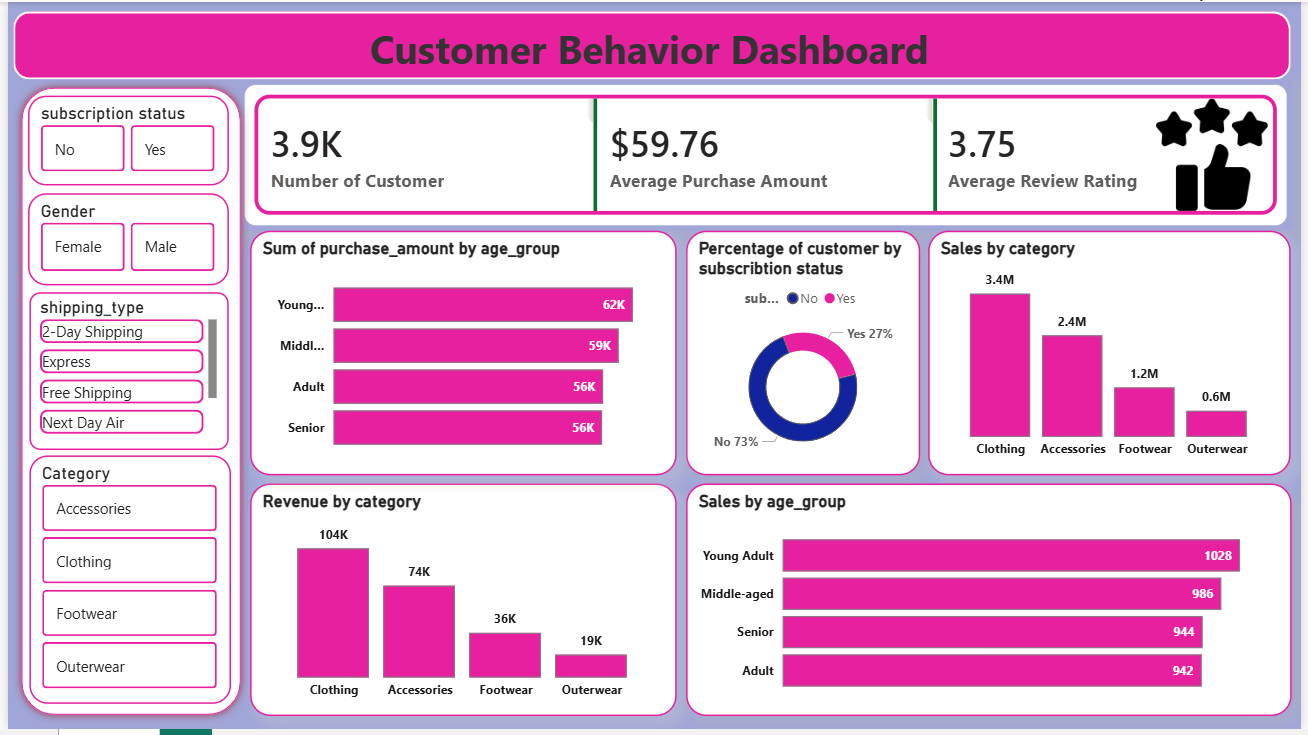

What the dashboard file says about the page in this screenshot:
{"tool":"powerbi","page":{"name":"Page 1","canvas":[1280,720],"ordinal":0},"visuals":[{"type":"cardVisual","fields":{"Data":["public customer.Number of Customer","public customer.Average Purchase Amount","public customer.Average Review Rating"]},"box":[229.1,76.8,1042.3,149.7],"z":0},{"type":"donutChart","title":"Percentage of customer by subscribtion status","fields":{"Category":["public customer.subscription_status"],"Y":["CountNonNull(public customer.customer_id)"]},"box":[671.5,226.5,231.8,242.4],"z":1000},{"type":"clusteredColumnChart","title":"Revenue by category","fields":{"Y":["Sum(public customer.purchase_amount)"],"Category":["public customer.category"]},"box":[239.7,476.8,422.5,230.4],"z":2000},{"type":"clusteredColumnChart","title":"Sales by category","fields":{"Y":["Sum(public customer.customer_id)"],"Category":["public customer.category"]},"box":[911.2,226.5,358.9,242.4],"z":3000},{"type":"shape","box":[5.3,76.8,233.1,637],"z":4000},{"type":"advancedSlicerVisual","title":"subscription status","fields":{"Values":["public customer.subscription_status"]},"box":[19.9,92.7,198.7,88.7],"z":5000},{"type":"advancedSlicerVisual","title":"Gender","fields":{"Values":["public customer.gender"]},"box":[19.9,189.4,198.7,91.4],"z":6000},{"type":"advancedSlicerVisual","title":"Category","fields":{"Values":["public customer.category"]},"box":[21.2,449,200,246.3],"z":7000},{"type":"listSlicer","fields":{"Values":["public customer.shipping_type"]},"box":[21.2,287.4,197.3,156.3],"z":8000},{"type":"clusteredBarChart","fields":{"Y":["Sum(public customer.purchase_amount)"],"Category":["public customer.age_group"]},"box":[239.7,226.5,422.5,242.4],"z":9000},{"type":"clusteredBarChart","title":"Sales by age_group","fields":{"Y":["CountNonNull(public customer.customer_id)"],"Category":["public customer.age_group"]},"box":[671.5,476.8,600,230.4],"z":10000},{"type":"shape","title":"Customer Behavior Dashboard","box":[5.3,9.3,1264.8,67.5],"z":11000}]}

Visuals, with their boxes in screenshot pixels (x1, y1, x2, y2), scaled from the page's 1280x720 canvas onto the 1308x735 screenshot:
cardVisual - public customer.Number of Customer x public customer.Average Purchase Amount: rect(234, 78, 1299, 231)
"Percentage of customer by subscribtion status" donutChart: rect(686, 231, 923, 479)
"Revenue by category" clusteredColumnChart: rect(245, 487, 677, 722)
"Sales by category" clusteredColumnChart: rect(931, 231, 1298, 479)
shape: rect(5, 78, 244, 729)
"subscription status" advancedSlicerVisual: rect(20, 95, 223, 185)
"Gender" advancedSlicerVisual: rect(20, 193, 223, 287)
"Category" advancedSlicerVisual: rect(22, 458, 226, 710)
listSlicer - public customer.shipping_type: rect(22, 293, 223, 453)
clusteredBarChart - Sum(public customer.purchase_amount) x public customer.age_group: rect(245, 231, 677, 479)
"Sales by age_group" clusteredBarChart: rect(686, 487, 1299, 722)
"Customer Behavior Dashboard" shape: rect(5, 9, 1298, 78)
